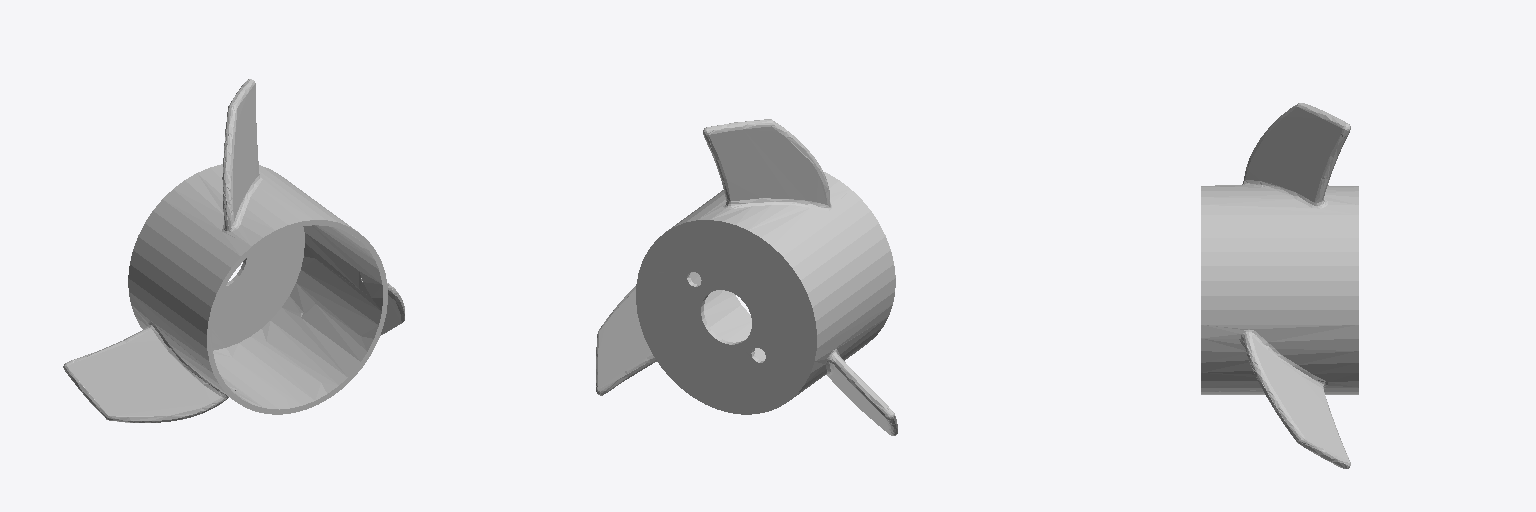
Rendered from propeller_up_right1.obj.
3 renders of one model, left to right at view 1: azimuth 30°, elevation 25°; view 2: azimuth 150°, elevation 25°; view 3: azimuth 270°, elevation 25°, orthographic.
Visible parts, largest first — view 1: propeller_up_left.001; view 2: propeller_up_left.001; view 3: propeller_up_left.001.
Part boxes in pixels (bbox=[...]): propeller_up_left.001: bbox=[63, 79, 404, 422]; propeller_up_left.001: bbox=[596, 119, 897, 435]; propeller_up_left.001: bbox=[1201, 103, 1358, 468].
Size of the model in its own units: 0.0701 by 0.0623 by 0.03.